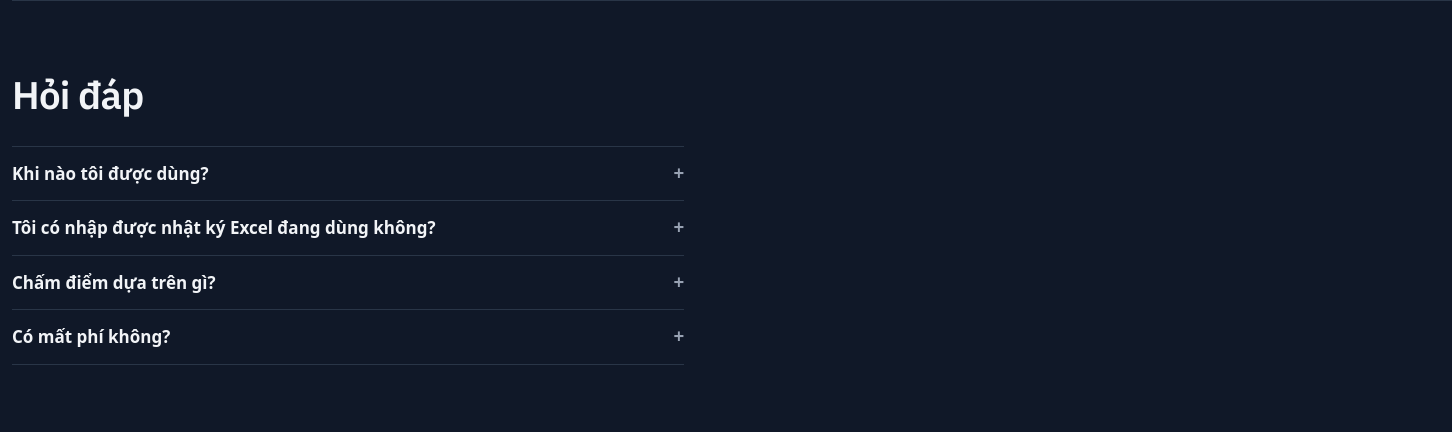
Test case: the scoring answer interpolates the backend thresholds
Step 1. Click the heading "Chấm điểm dựa trên gì?" → (114, 282), box [12,271,216,294]
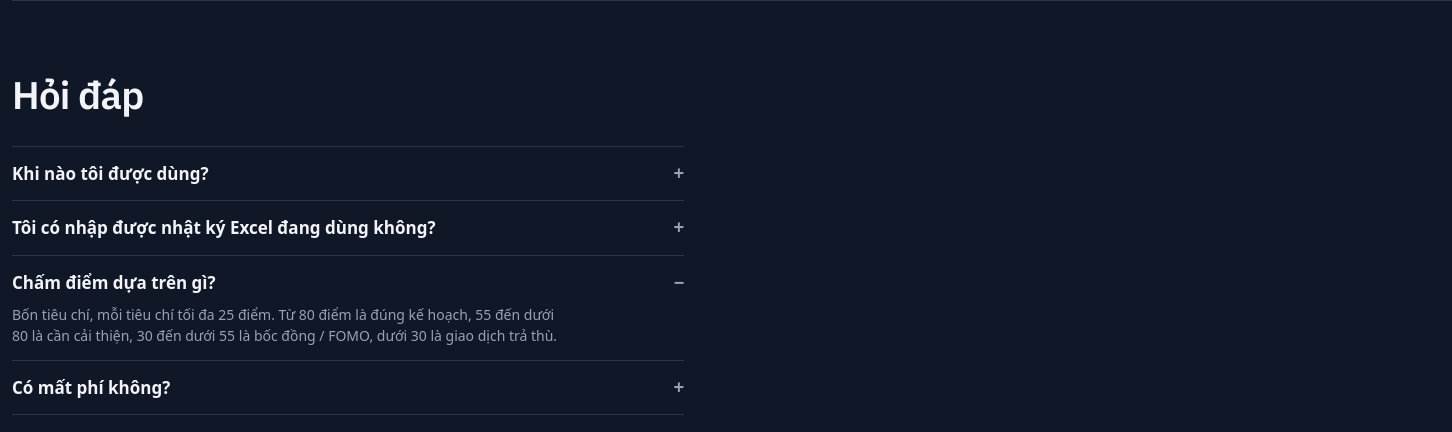
Result: the text "Bốn tiêu chí, mỗi tiêu chí tối đa 25 điểm. Từ 80 điểm là đúng kế hoạch, 55 đến dưới 80 là cần cải thiện, 30 đến dưới 55 " is shown at [12,305,557,345]
